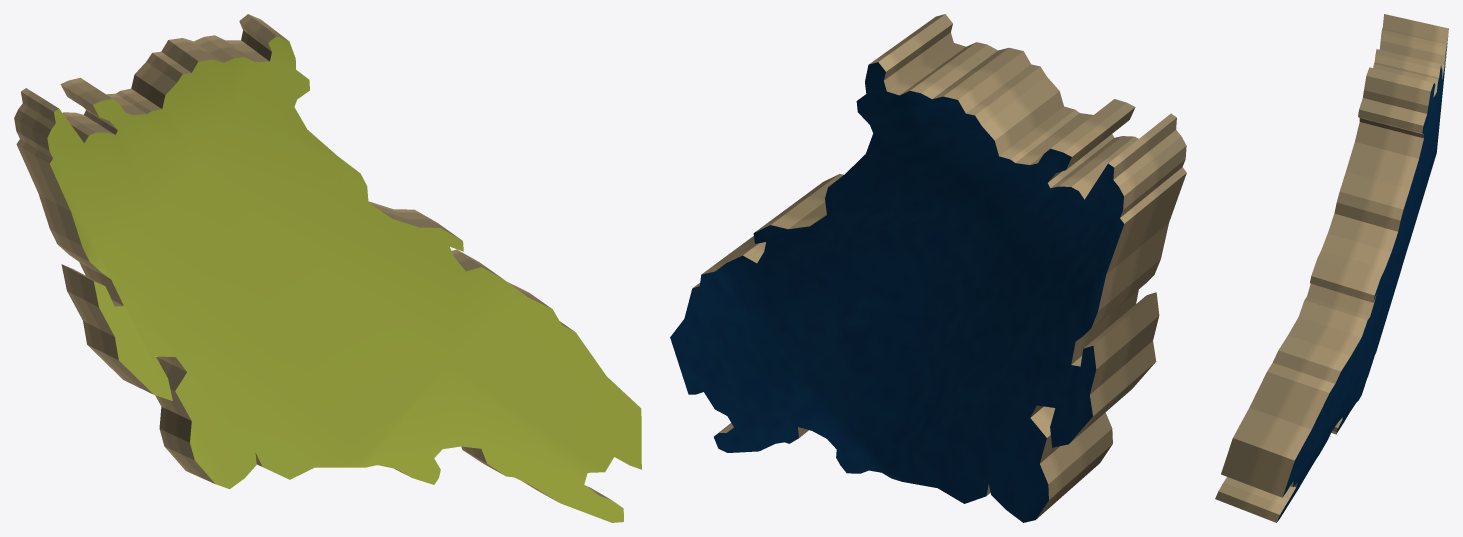
File: 069c_Greenland.glb
3 renders of one model, left to right at view 1: azimuth 30°, elevation 25°; view 2: azimuth 150°, elevation 25°; view 3: azimuth 270°, elevation 25°, orthographic. The views are drawn at different scales.
Parts seen in each view (by area): view 1: part_0; view 2: part_0; view 3: part_0.
Part boxes in pixels (bbox=[...]): part_0: bbox=[14, 14, 641, 522]; part_0: bbox=[670, 14, 1186, 522]; part_0: bbox=[1215, 14, 1448, 522].
Bounding box in the file's own units: 1.3 × 1.19 × 0.6994.
Materials: 1 (1 with a texture image).
